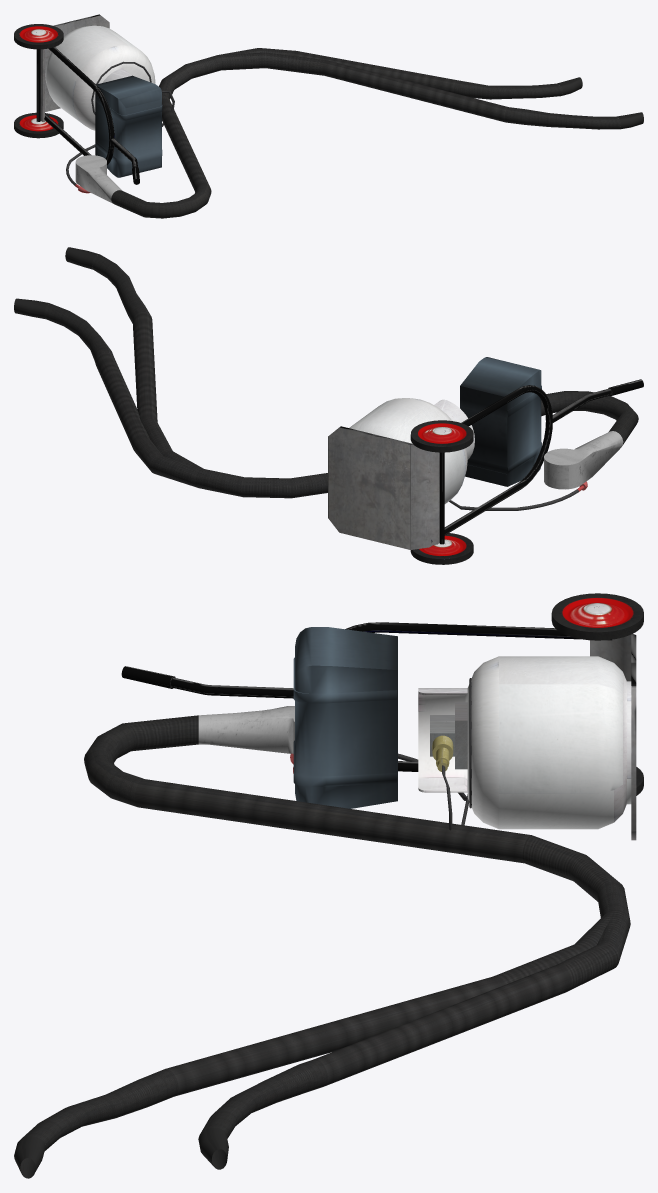
Rendered from RedDragonEnginePreHeater.gltf.
3 renders of one model, top to bottom at view 1: azimuth 30°, elevation 25°; view 2: azimuth 150°, elevation 25°; view 3: azimuth 270°, elevation 25°, orthographic. The views are drawn at different scales.
Visible parts, largest first — view 1: EnginePreHeater, hosehigh, hoselow; view 2: EnginePreHeater, hosehigh, hoselow; view 3: EnginePreHeater, hosehigh, hoselow.
Boxes of the visible parts, x1=… form: EnginePreHeater: x1=14, y1=14, x2=174, y2=193; hosehigh: x1=75, y1=52, x2=643, y2=218; hoselow: x1=219, y1=48, x2=582, y2=99; EnginePreHeater: x1=328, y1=357, x2=643, y2=564; hosehigh: x1=65, y1=247, x2=638, y2=498; hoselow: x1=14, y1=298, x2=201, y2=487; EnginePreHeater: x1=121, y1=593, x2=643, y2=840; hosehigh: x1=14, y1=706, x2=629, y2=1178; hoselow: x1=198, y1=910, x2=630, y2=1169.
Bounding box in the file's own units: 3.25 × 0.6214 × 1.97.
1 material, 1 textured.
